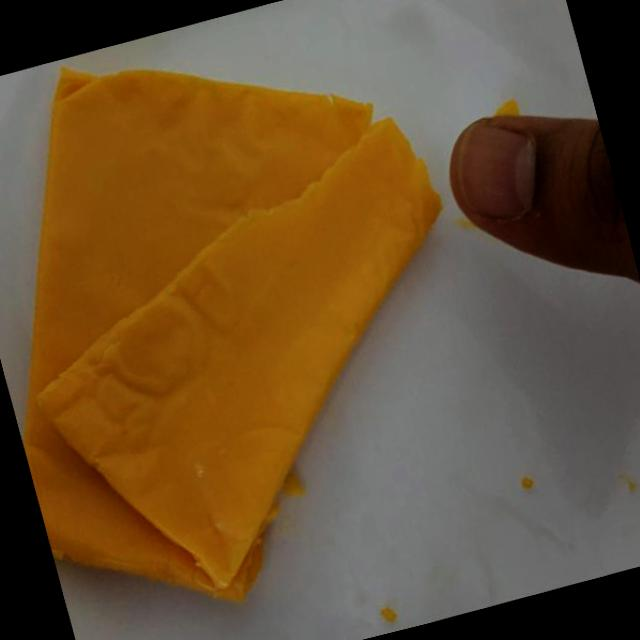Cheese: (0, 0, 548, 640)
Finger: (426, 73, 640, 341)
